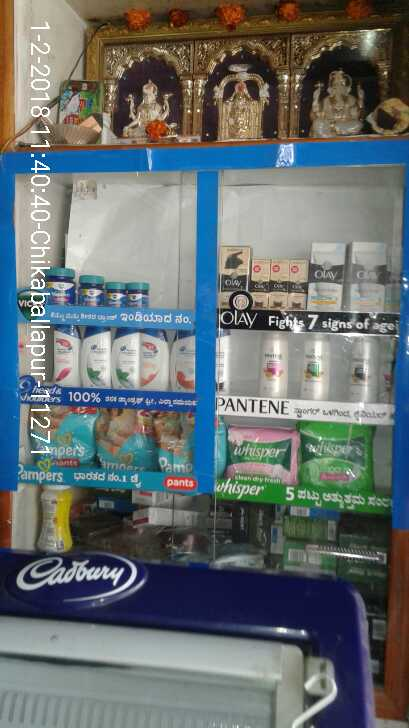beauty: (350, 239, 385, 310), (346, 330, 378, 402), (308, 243, 343, 307), (260, 329, 291, 400), (169, 328, 198, 395), (140, 326, 169, 390), (80, 322, 108, 386), (114, 327, 141, 393), (304, 330, 328, 404), (221, 244, 248, 309), (54, 322, 79, 390), (268, 260, 289, 309), (289, 260, 306, 310), (253, 257, 268, 307)
pharmacy: (301, 425, 371, 495), (232, 422, 296, 486), (32, 404, 96, 464), (96, 409, 154, 473), (153, 411, 192, 473), (43, 265, 75, 306), (76, 273, 103, 306), (106, 280, 127, 306), (127, 283, 149, 306)
